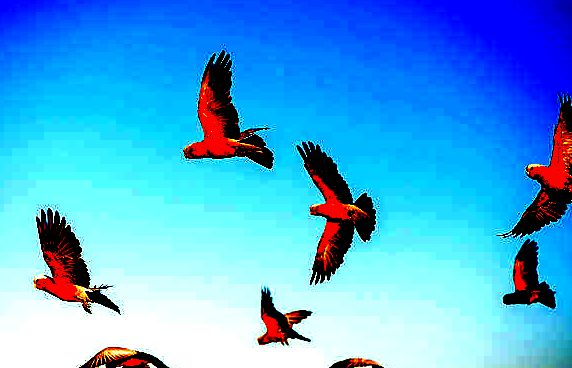Bird: (293, 139, 378, 289), (493, 89, 571, 239), (181, 46, 274, 170), (30, 204, 122, 315), (499, 238, 559, 310), (252, 282, 314, 347), (72, 343, 170, 367)
